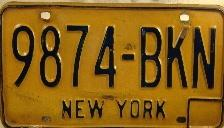4: (93, 24, 120, 88)
7: (65, 24, 91, 89)
8: (39, 24, 64, 89)
9: (11, 24, 37, 90)
B: (138, 25, 165, 91)
K: (165, 23, 191, 90)
N: (192, 23, 219, 91)
